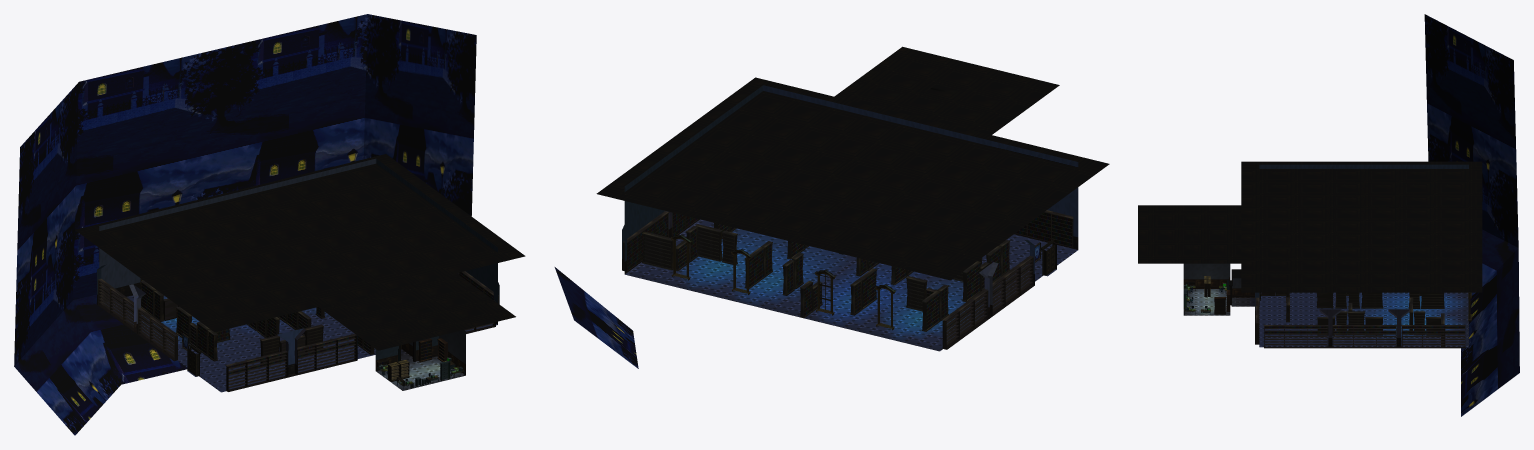
Rendered from episode1level4.glb.
The picture shows the model from 3 angles, left to right: view 1: azimuth 30°, elevation 25°; view 2: azimuth 150°, elevation 25°; view 3: azimuth 270°, elevation 25°; orthographic projection. The views are drawn at different scales.
Visible parts, largest first — view 1: mesh_Lib_DomeNuit, mesh_R1_panneau_bois1a, mesh_R1_panneau_bois4, mesh_R1_floor, mesh_mur, mesh_R1_livres1a, mesh_Lv4_R1_ordi1a; view 2: mesh_R1_panneau_bois1a, mesh_R1_floor, mesh_R1_panneau_bois4, mesh_R1_livres1a, mesh_mur, mesh_Lib_DomeNuit, mesh_model00; view 3: mesh_R1_panneau_bois1a, mesh_Lib_DomeNuit, mesh_R1_panneau_bois4, mesh_R1_floor, mesh_mur, mesh_R1_livres1a.
Part boxes in pixels (box(x1,y1,x2,y2)): mesh_Lib_DomeNuit: box(14, 14, 476, 435); mesh_R1_panneau_bois1a: box(75, 154, 525, 350); mesh_R1_panneau_bois4: box(97, 271, 498, 391); mesh_R1_floor: box(103, 295, 497, 392); mesh_mur: box(97, 158, 499, 367); mesh_R1_livres1a: box(101, 272, 493, 382); mesh_Lv4_R1_ordi1a: box(377, 348, 464, 389); mesh_R1_panneau_bois1a: box(596, 46, 1109, 280); mesh_R1_floor: box(625, 219, 1077, 351); mesh_R1_panneau_bois4: box(622, 210, 1078, 349); mesh_R1_livres1a: box(627, 212, 1072, 329); mesh_mur: box(622, 85, 1078, 307); mesh_Lib_DomeNuit: box(554, 267, 638, 368); mesh_model00: box(670, 234, 895, 330); mesh_R1_panneau_bois1a: box(1138, 161, 1482, 300); mesh_Lib_DomeNuit: box(1424, 14, 1519, 416); mesh_R1_panneau_bois4: box(1183, 276, 1465, 348); mesh_R1_floor: box(1183, 289, 1468, 347); mesh_mur: box(1183, 164, 1468, 337); mesh_R1_livres1a: box(1185, 282, 1465, 333).
Bounding box in the file's own units: 80.88 × 47.72 × 66.58.
12 materials, 12 textured.
